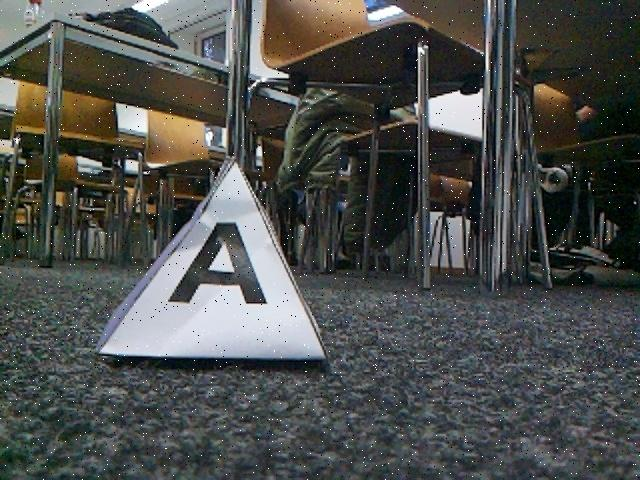A: (95, 160, 324, 363)
